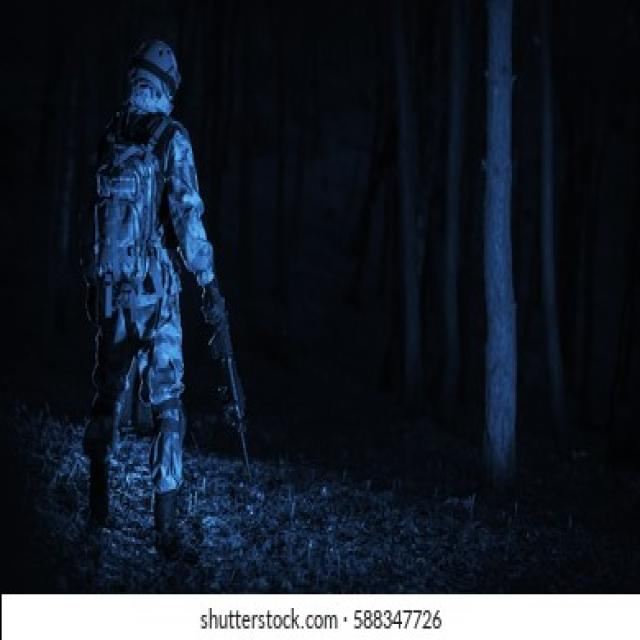Forest: (1, 0, 640, 594)
Militant: (63, 27, 250, 575)
